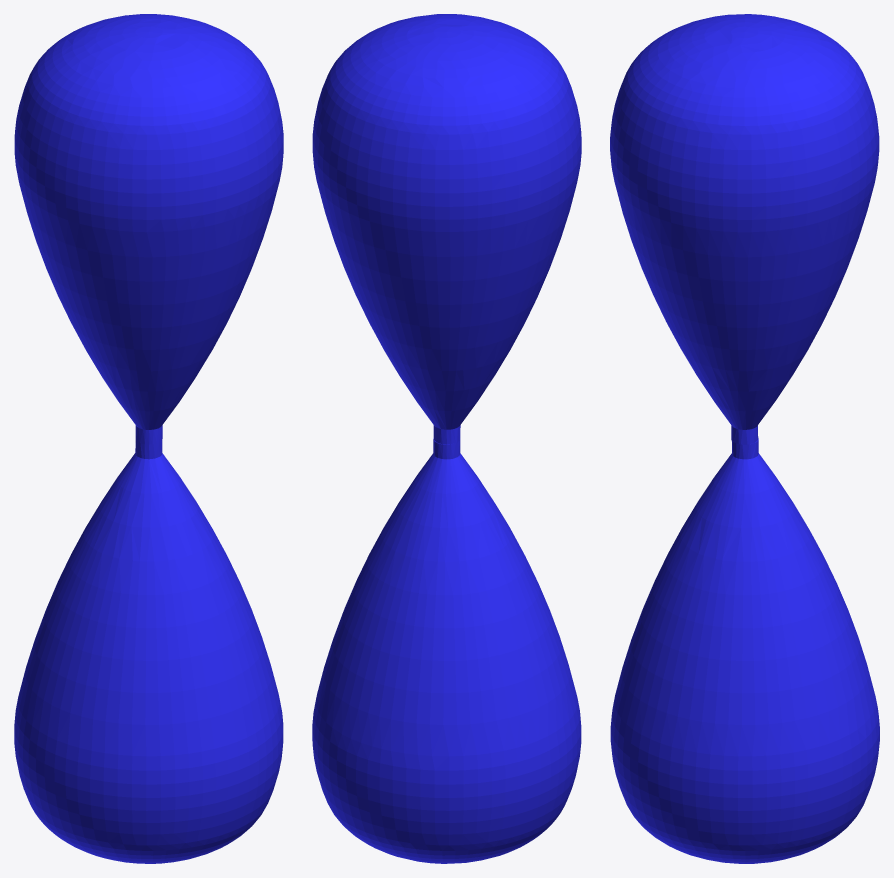
Rendered from 2Orbital_p.glb.
The picture shows the model from 3 angles, left to right: view 1: azimuth 30°, elevation 25°; view 2: azimuth 150°, elevation 25°; view 3: azimuth 270°, elevation 25°; orthographic projection.
Parts seen in each view (by area): view 1: root; view 2: root; view 3: root.
Part boxes in pixels (x1,y1,x2,y2): root: (14, 14, 283, 863); root: (312, 14, 581, 863); root: (610, 14, 879, 863).
Size of the model in its own units: 0.2995 by 1 by 0.3006.
